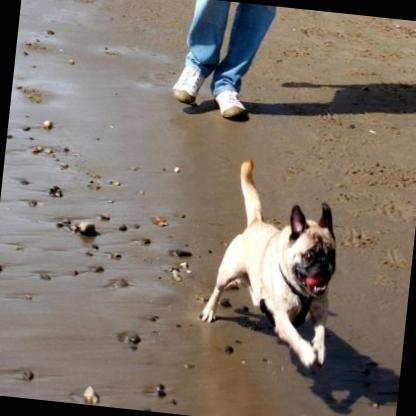pug: (194, 154, 345, 370)
